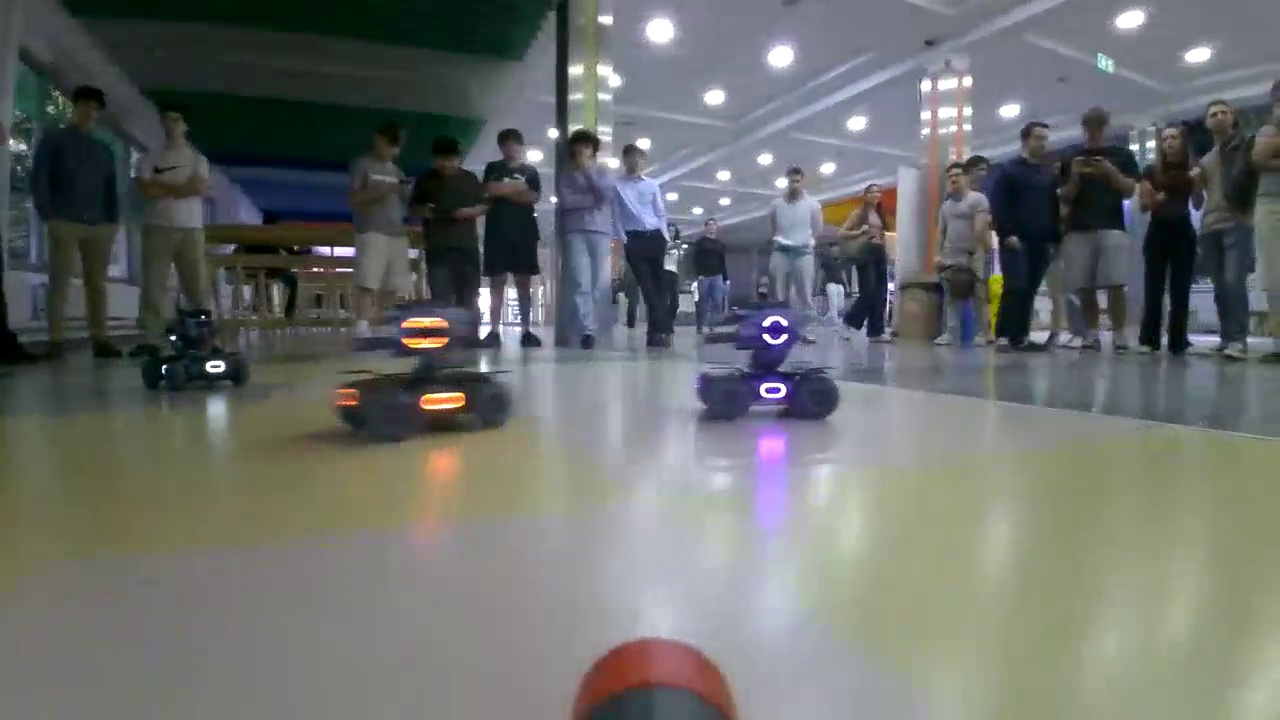robot: (336, 318, 518, 440), (694, 314, 842, 422), (146, 306, 244, 390)
